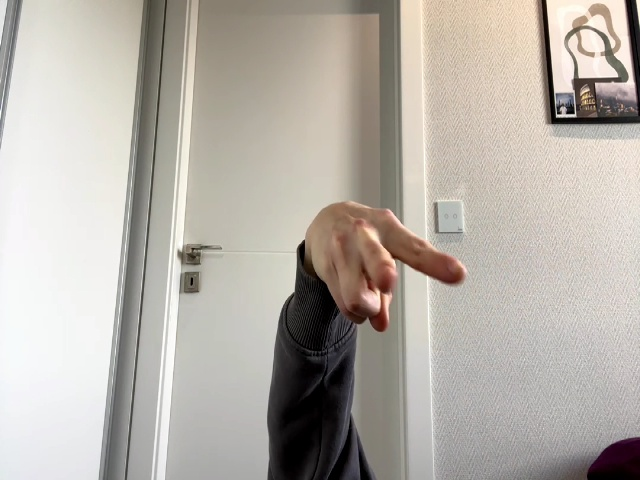U: (305, 200, 467, 333)
